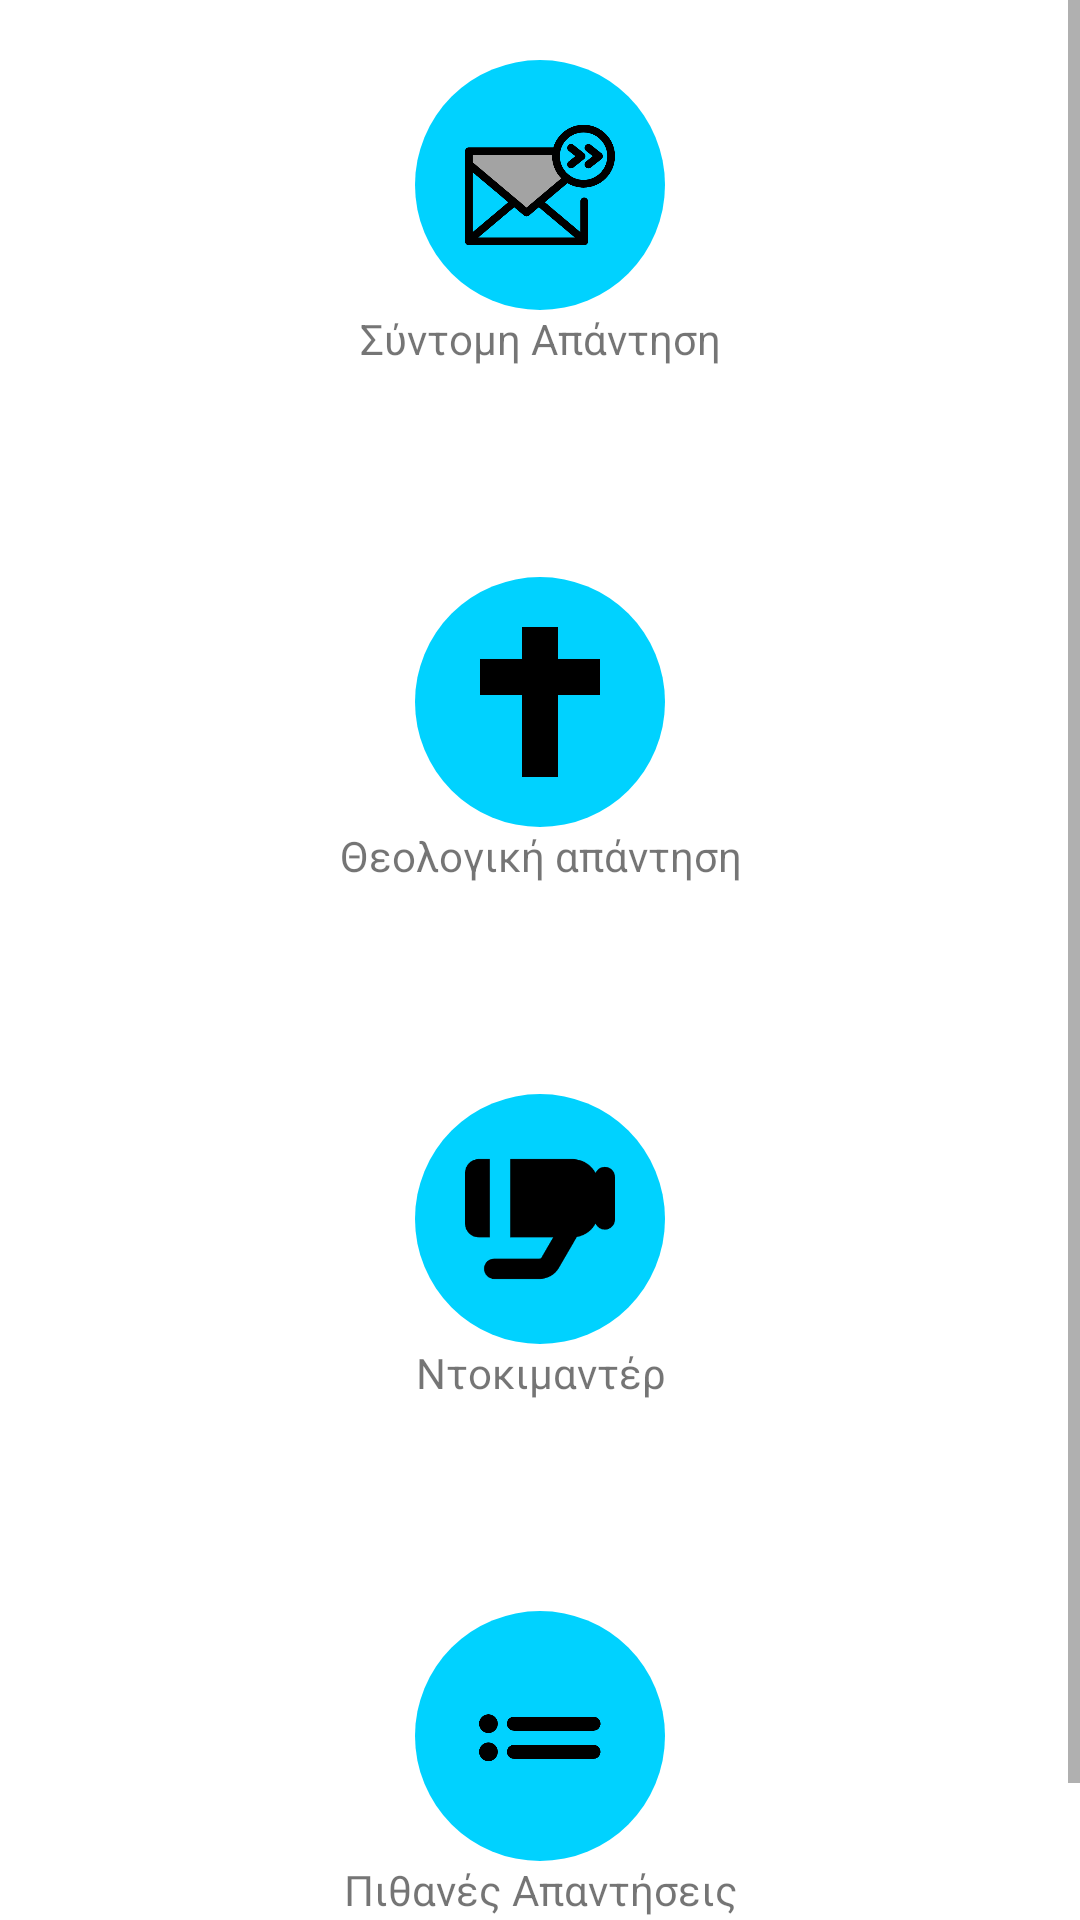

Icons on this 1080*1920 Android screen, each with the point to tap as point (x, y):
christian cross: point (540, 702)
